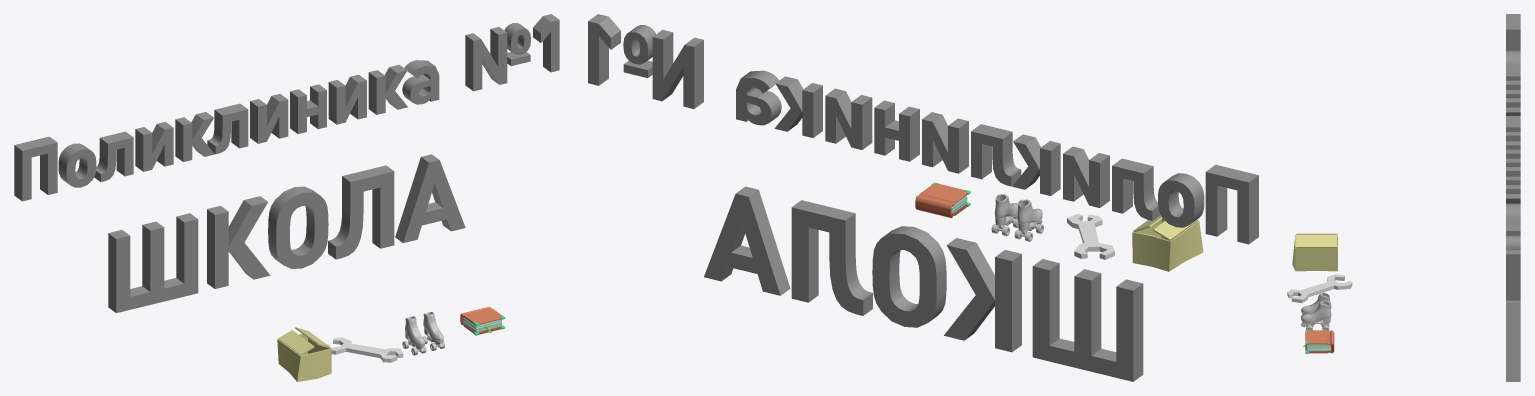
Rendered from Pack_01.FBX.
3 renders of one model, left to right at view 1: azimuth 30°, elevation 25°; view 2: azimuth 150°, elevation 25°; view 3: azimuth 270°, elevation 25°, orthographic. The views are drawn at different scales.
Visible parts, largest first — view 1: Text002, Text001, Box001, quads, M_StylizedBook, Line001; view 2: Text002, Text001, Box001, quads, M_StylizedBook, Line001; view 3: Text002, Box001, Text001, quads, Line001, M_StylizedBook.
Part boxes in pixels (bbox=[...]): Text002: bbox=[14, 14, 559, 201]; Text001: bbox=[108, 154, 465, 312]; Box001: bbox=[277, 327, 331, 381]; quads: bbox=[402, 312, 444, 355]; M_StylizedBook: bbox=[460, 306, 505, 335]; Line001: bbox=[327, 337, 403, 362]; Text002: bbox=[588, 14, 1258, 244]; Text001: bbox=[704, 186, 1143, 381]; Box001: bbox=[1132, 215, 1203, 271]; quads: bbox=[991, 193, 1043, 241]; M_StylizedBook: bbox=[915, 182, 970, 217]; Line001: bbox=[1067, 213, 1114, 259]; Text002: bbox=[1506, 14, 1520, 300]; Box001: bbox=[1292, 233, 1337, 271]; Text001: bbox=[1506, 300, 1520, 381]; quads: bbox=[1300, 292, 1331, 330]; Line001: bbox=[1287, 274, 1352, 303]; M_StylizedBook: bbox=[1303, 330, 1334, 353].
Size of the model in its own units: 442 by 154 by 182.
